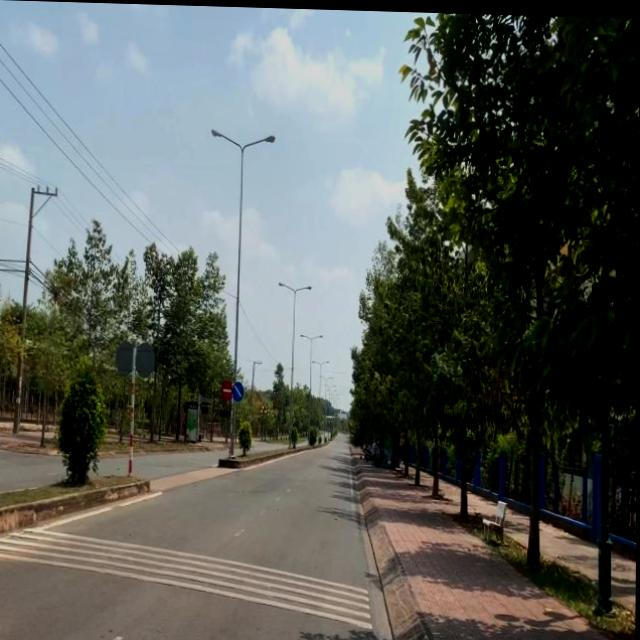Cam di nguoc chieu: (222, 380, 234, 399)
Vong chuong ngai vat sang phai: (233, 380, 244, 401)
